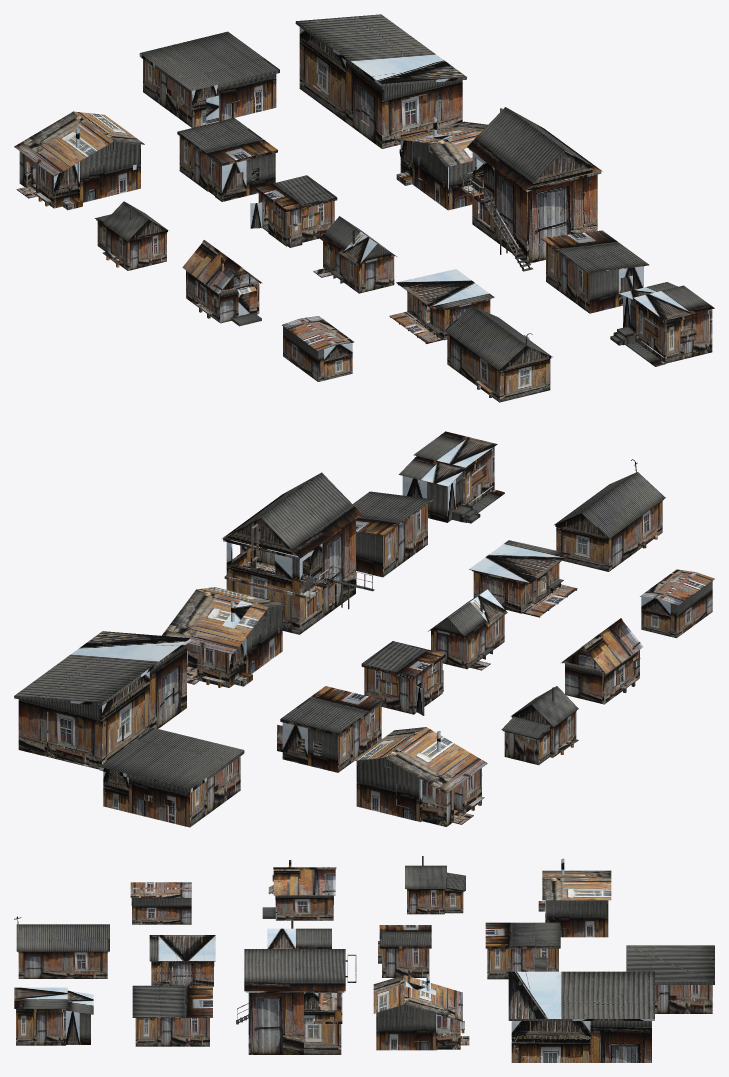
Rendered from russian-booths-pack.fbx.
3 views of the same model, one above another, from view 1: azimuth 30°, elevation 25°; view 2: azimuth 150°, elevation 25°; view 3: azimuth 270°, elevation 25° (orthographic). The views are drawn at different scales.
Visible parts, largest first — view 1: Box001_01 - Default_0 (×12), Object001_01 - Default_0, Box007_01 - Default_0, Box005_01 - Default_0; view 2: Box001_01 - Default_0 (×12), Object001_01 - Default_0, Box005_01 - Default_0, Box007_01 - Default_0; view 3: Box001_01 - Default_0 (×12), Object001_01 - Default_0, Box005_01 - Default_0, Box007_01 - Default_0.
Part boxes in pixels (box(x1,y1,x2,y2)): Box001_01 - Default_0 (×12): box(14, 14, 714, 402); Object001_01 - Default_0: box(177, 118, 277, 201); Box007_01 - Default_0: box(250, 175, 337, 247); Box005_01 - Default_0: box(389, 269, 494, 343); Box001_01 - Default_0 (×12): box(14, 431, 714, 827); Object001_01 - Default_0: box(277, 686, 383, 772); Box005_01 - Default_0: box(469, 540, 577, 617); Box007_01 - Default_0: box(361, 641, 445, 715); Box001_01 - Default_0 (×12): box(14, 856, 714, 1062); Object001_01 - Default_0: box(485, 922, 560, 979); Box005_01 - Default_0: box(149, 935, 215, 986); Box007_01 - Default_0: box(378, 925, 431, 977).
Size of the model in its own units: 33.7 by 8.58 by 59.21.
Materials: 1 (1 with a texture image).
